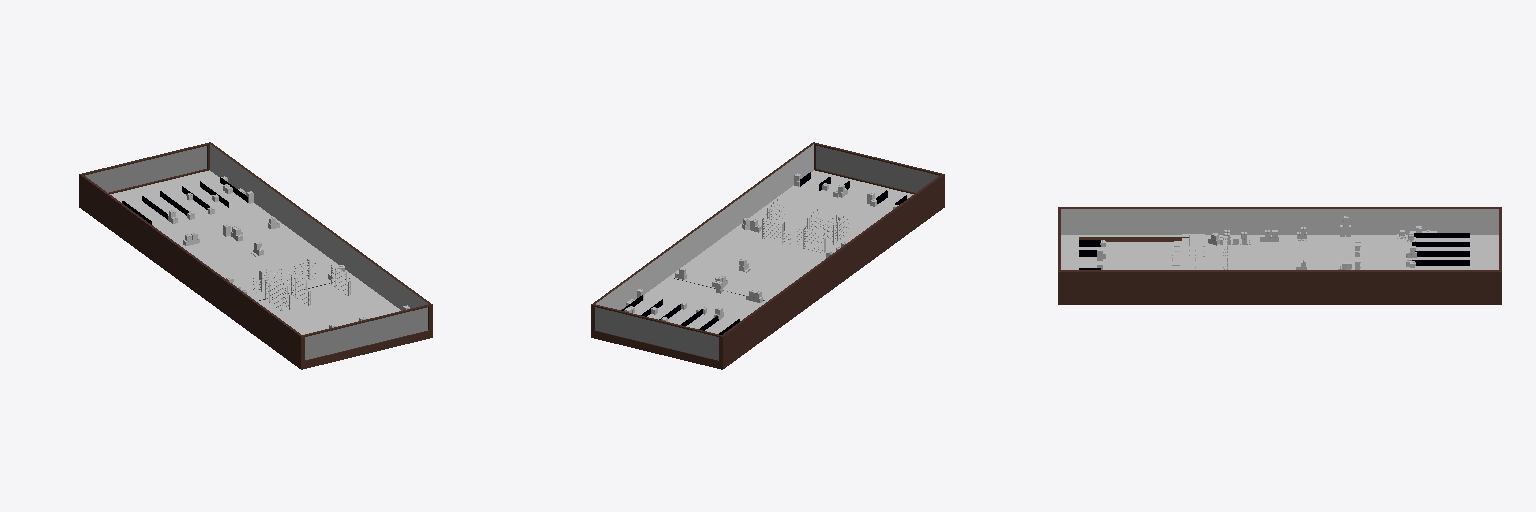
The model's file is warehouse_version_2.obj.
The picture shows the model from 3 angles: view 1: azimuth 30°, elevation 25°; view 2: azimuth 150°, elevation 25°; view 3: azimuth 270°, elevation 25°; orthographic projection.
Visible parts, largest first — view 1: warehouse_version_2, Plane.001, Plane; view 2: warehouse_version_2, Plane, Plane.001; view 3: warehouse_version_2.
Boxes of the visible parts, x1,y1,x2,y2 form: warehouse_version_2: [79, 142, 432, 369]; Plane.001: [305, 307, 427, 359]; Plane: [85, 146, 206, 192]; warehouse_version_2: [591, 142, 944, 369]; Plane: [595, 307, 718, 360]; Plane.001: [816, 146, 938, 192]; warehouse_version_2: [1058, 207, 1501, 304].
Bounding box in the file's own units: 40.94 × 9.84 × 120.